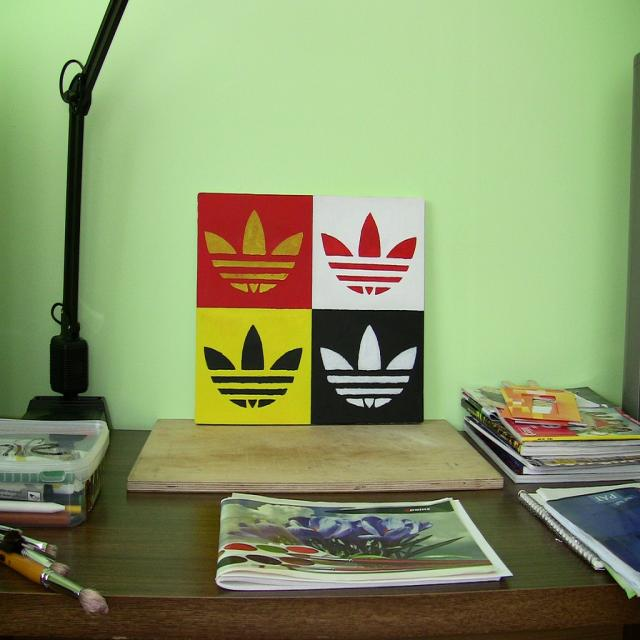adidas: (200, 202, 310, 303), (316, 207, 424, 305), (200, 323, 308, 417), (317, 323, 424, 413)
